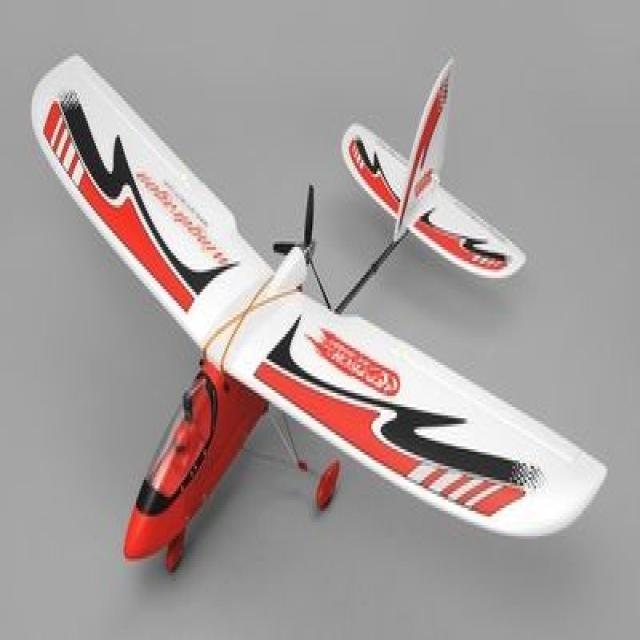iha: (27, 36, 607, 575)
